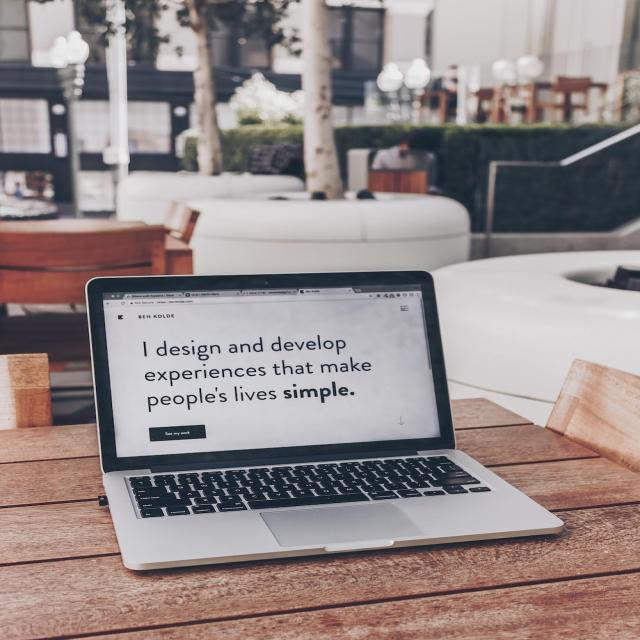keyboard: (107, 450, 556, 562)
